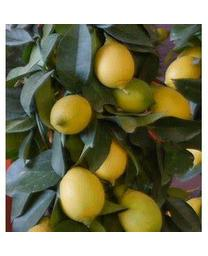lemon: (62, 170, 105, 222), (120, 187, 162, 232), (97, 41, 134, 90), (52, 95, 92, 132), (155, 82, 192, 122), (119, 79, 154, 115)
